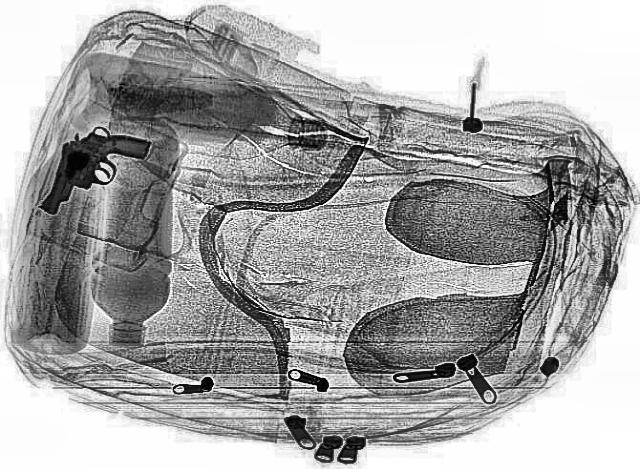Gun: (16, 114, 156, 224)
